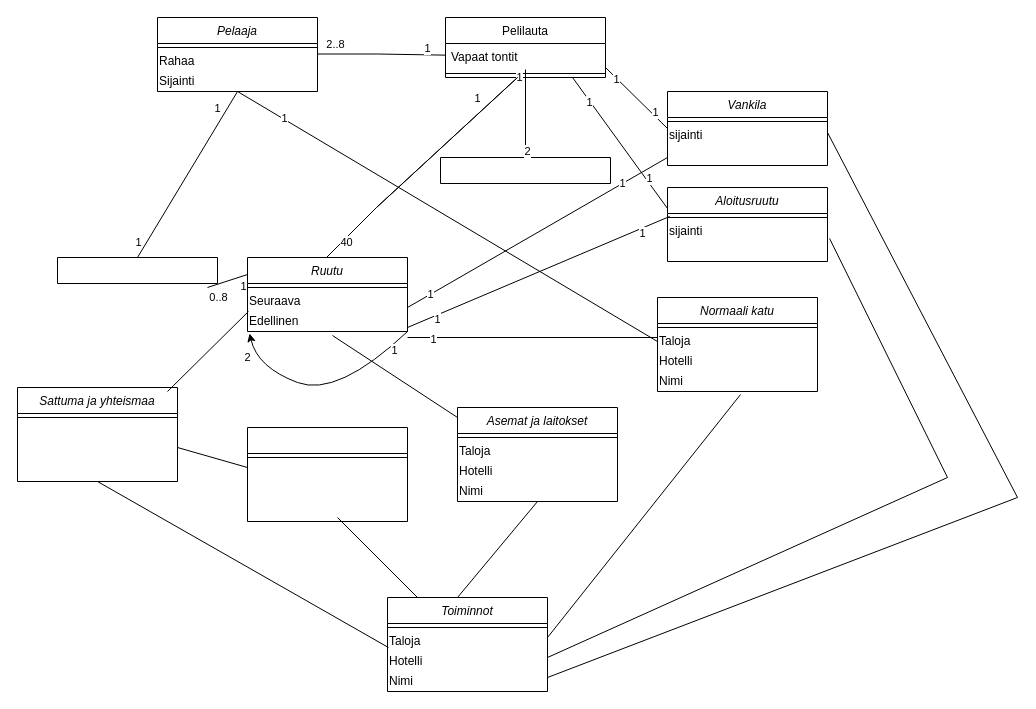
Some shapes in this 1036 by 709 pixel diagram are drawn without their labels. Each missing label, with the centre of its shape:
Kortti: the point at 327,474
Noppa: the point at 525,170
Pelinappula: the point at 137,270
